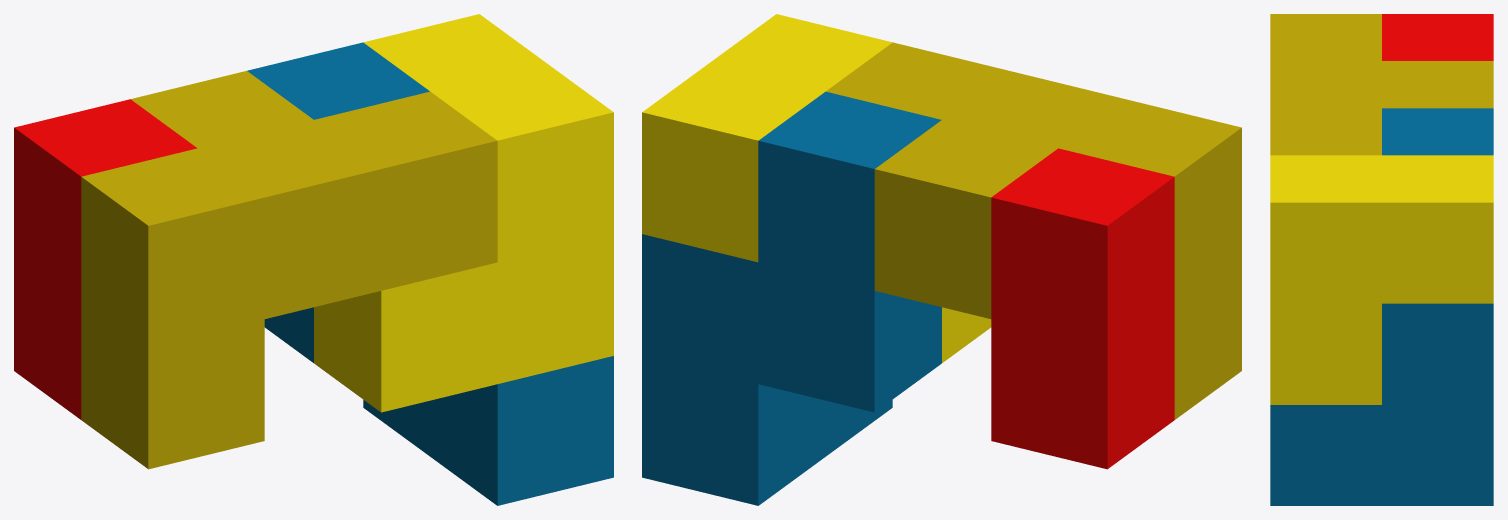
The picture shows the model from 3 angles, left to right: view 1: azimuth 30°, elevation 25°; view 2: azimuth 150°, elevation 25°; view 3: azimuth 270°, elevation 25°; orthographic projection. The views are drawn at different scales.
Parts seen in each view (by area): view 1: mergedBlocks(Clone); view 2: mergedBlocks(Clone); view 3: mergedBlocks(Clone).
Boxes of the visible parts, <box> form: mergedBlocks(Clone): <box>14,14,613,505</box>; mergedBlocks(Clone): <box>642,14,1241,505</box>; mergedBlocks(Clone): <box>1270,14,1493,505</box>.
Bounding box in the file's own units: 4 × 3 × 2.
4 materials, 4 textured.
